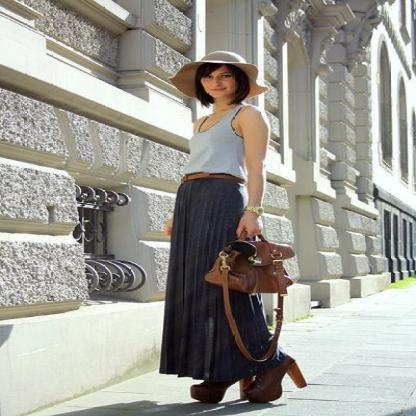bag: (204, 228, 294, 310)
hat: (170, 44, 245, 91)
shirt: (174, 124, 248, 180)
shoe: (190, 354, 306, 407)
skirt: (159, 177, 280, 389)
